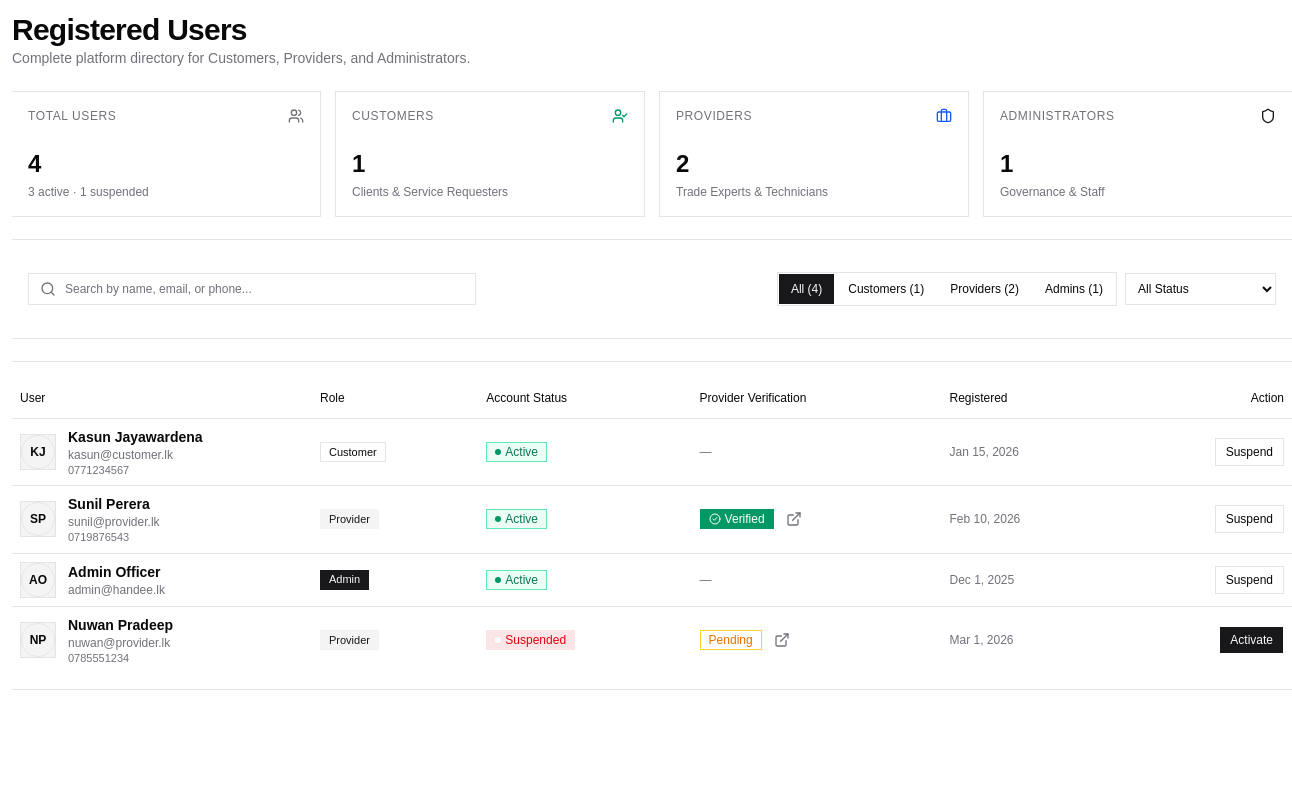
Test: UsersManagement Page › searches users by name or email keyword
The image size is (1292, 812).
expect the text "Kasun Jayawardena" is shown: met, box [68, 426, 203, 446]
Type "Sunil" into the field with placeholder "Search by name, email, or phone..." at [252, 289], box [28, 273, 476, 305]
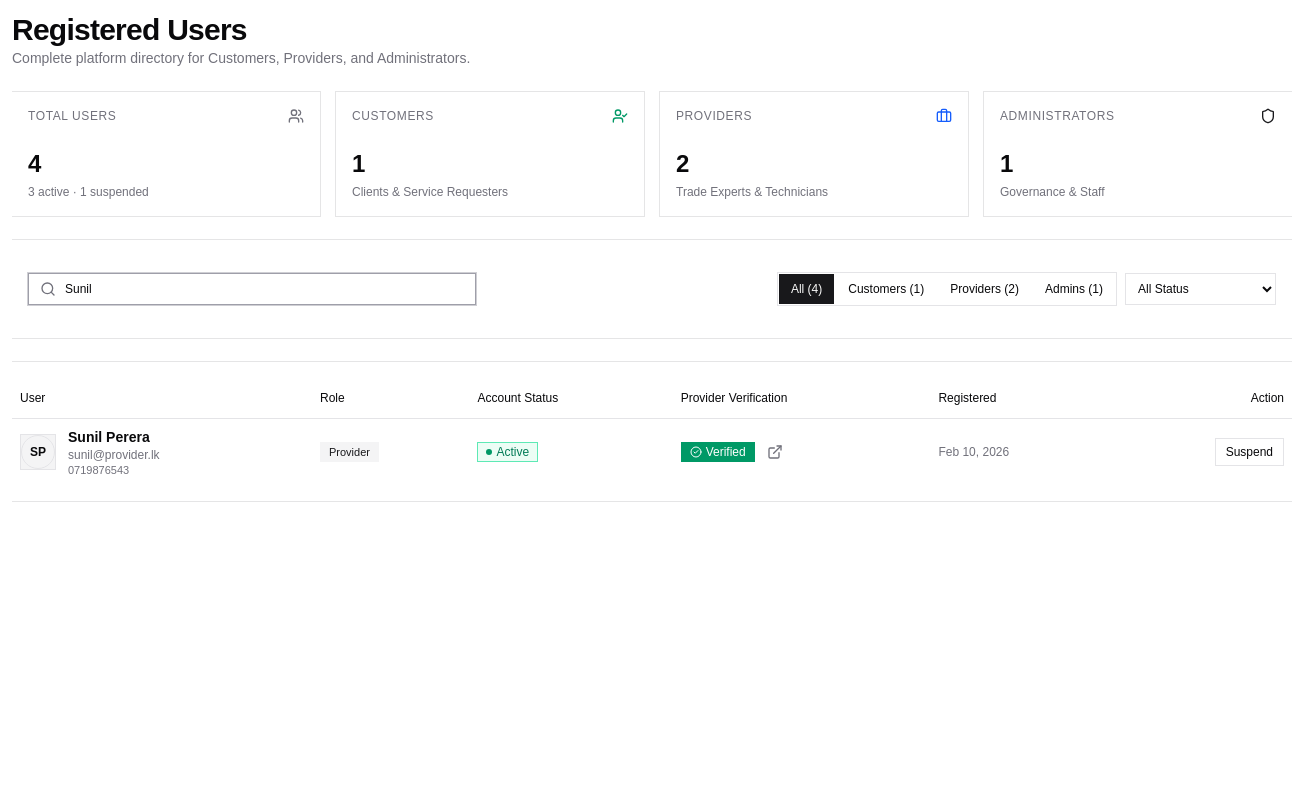
expect the text "Sunil Perera" is shown: met, box [68, 426, 160, 446]
expect the text "Kasun Jayawardena" is gone: met
